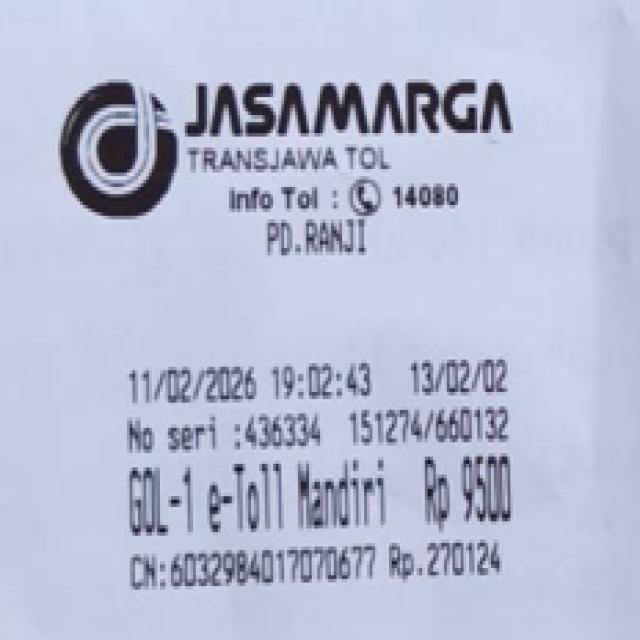date: (112, 366, 382, 403)
store: (179, 71, 535, 180)
total: (415, 453, 546, 538)
